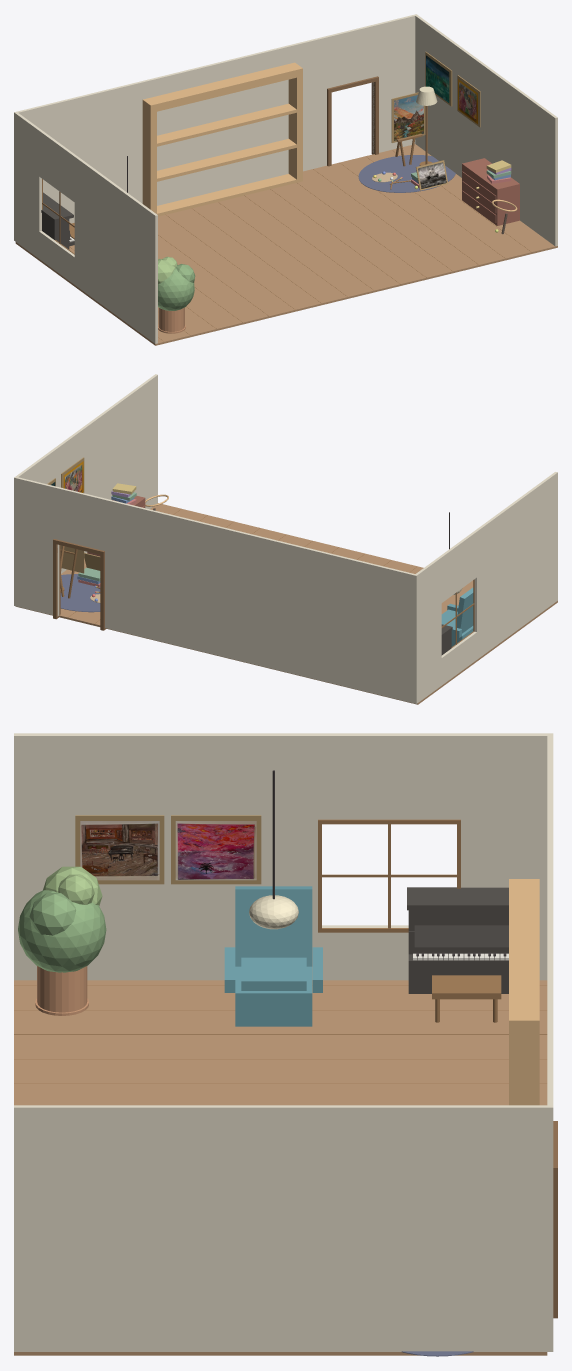
Rendered from bookshelf.glb.
3 renders of one model, top to bottom at view 1: azimuth 30°, elevation 25°; view 2: azimuth 150°, elevation 25°; view 3: azimuth 270°, elevation 25°, orthographic. The views are drawn at different scales.
Parts seen in each view (by area): view 1: Room; view 2: Room; view 3: Room.
Part boxes in pixels (x1,y1,x2,y2): Room: (14, 14, 557, 345); Room: (14, 374, 557, 704); Room: (14, 733, 557, 1356).
Size of the model in its own units: 46.54 by 14.2 by 28.25.
43 materials, 6 textured.
